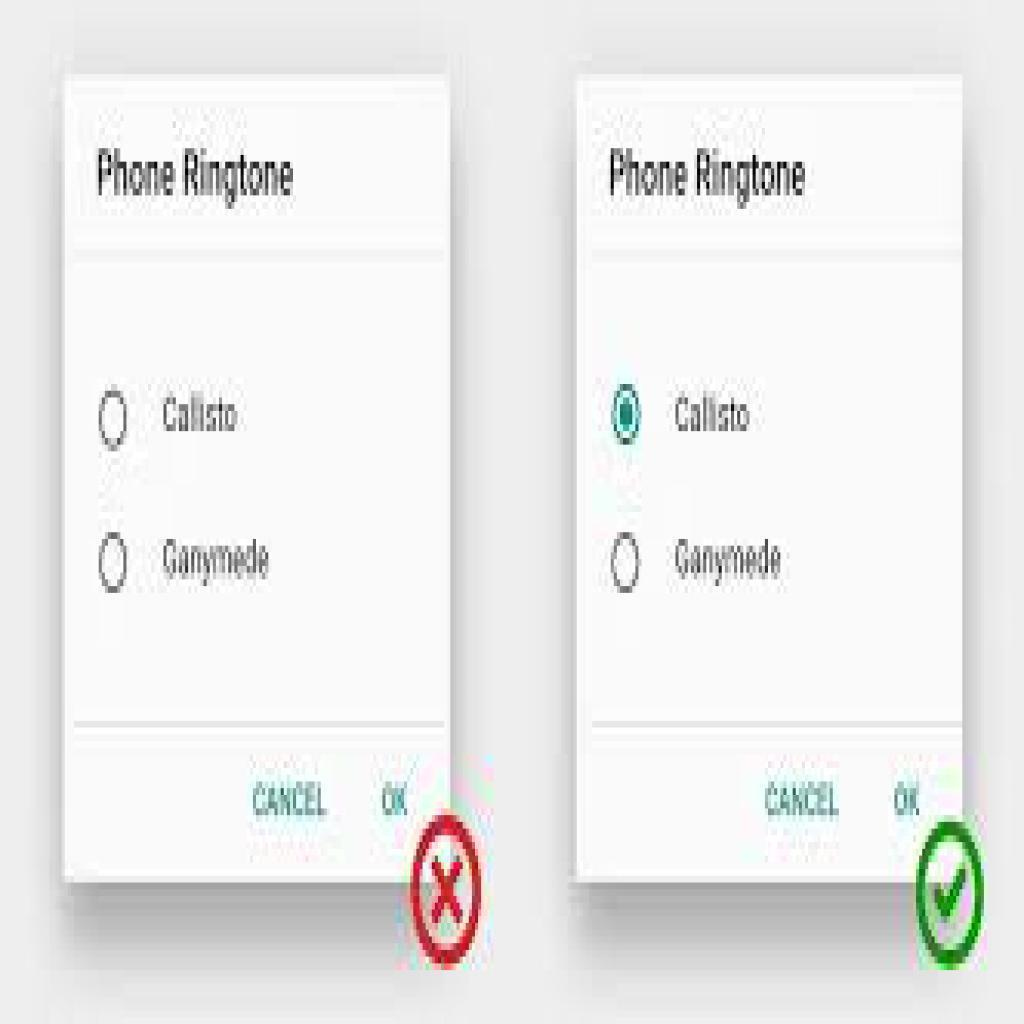radio: (97, 529, 134, 598), (609, 530, 646, 597), (610, 380, 646, 448), (96, 387, 133, 450)
